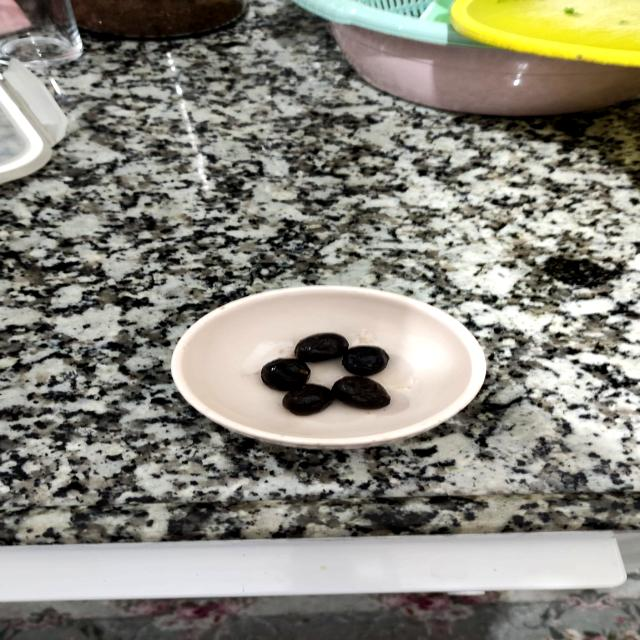olive: (246, 327, 409, 417)
